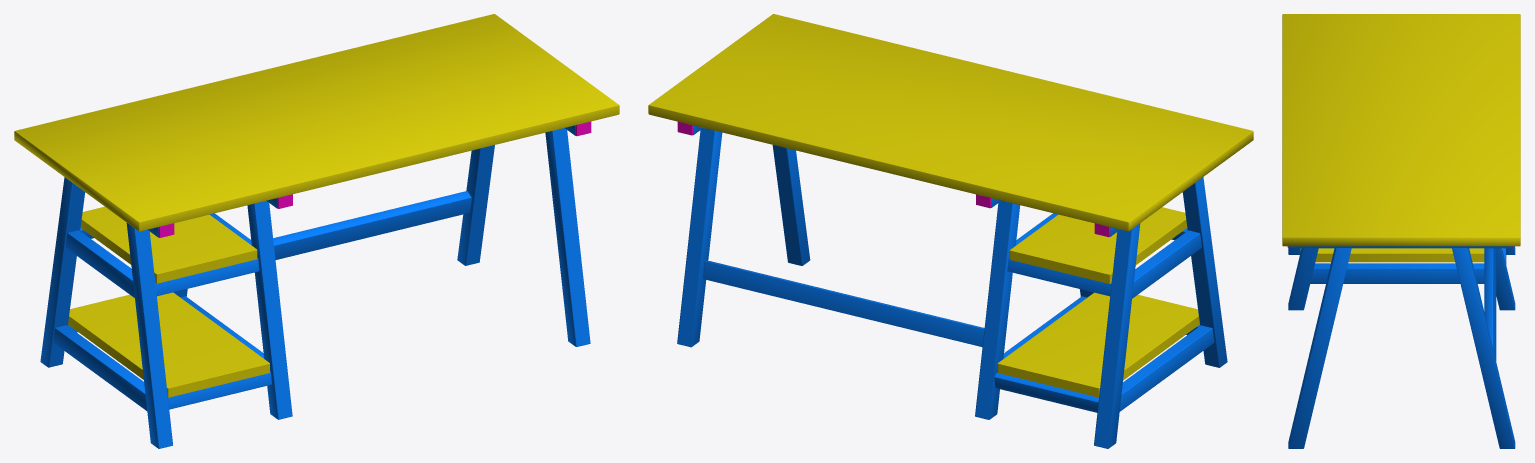
The model's file is WorkTable.fbx.
3 renders of one model, left to right at view 1: azimuth 30°, elevation 25°; view 2: azimuth 150°, elevation 25°; view 3: azimuth 270°, elevation 25°, orthographic. The views are drawn at different scales.
Visible parts, largest first — view 1: Cube.018; view 2: Cube.018; view 3: Cube.018.
Boxes of the visible parts, x1,y1,x2,y2 form: Cube.018: (14, 14, 619, 448); Cube.018: (648, 14, 1253, 448); Cube.018: (1282, 14, 1520, 448).
Bounding box in the file's own units: 152 × 71.12 × 68.58.
